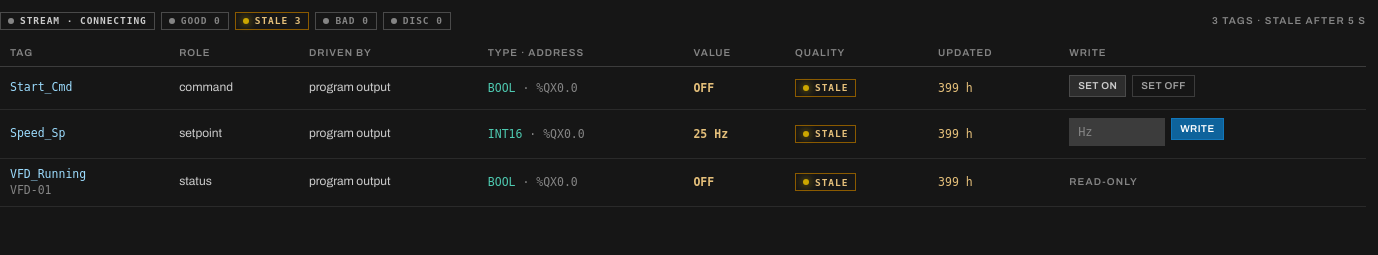
LiveTagTable › writes only command and setpoint tags, and reports what the PLC answered
The image size is (1378, 255).
Expected: the text "read-only" is shown, [1069,176,1138,188]
Click the button "Set ON" at (1098, 86), box [1069,75,1126,97]
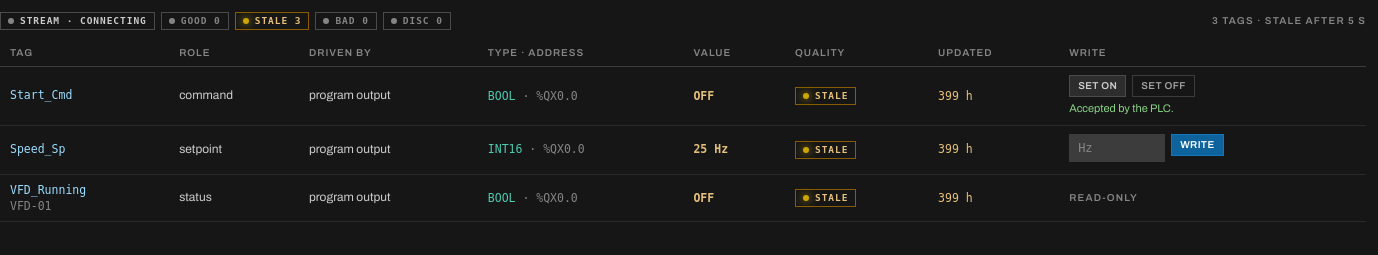
Now the text "Accepted by the PLC." is shown, box [1069,102,1174,114]
Type "37.5" into the field named "New value for Speed_Sp in Hz" at (1117, 148), box [1069,134,1165,162]
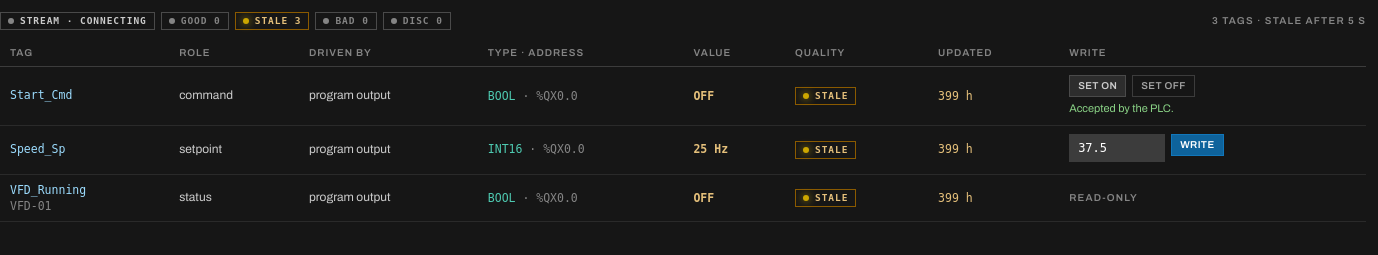
Click the button "Write" at (1197, 145), box [1171,134,1224,156]
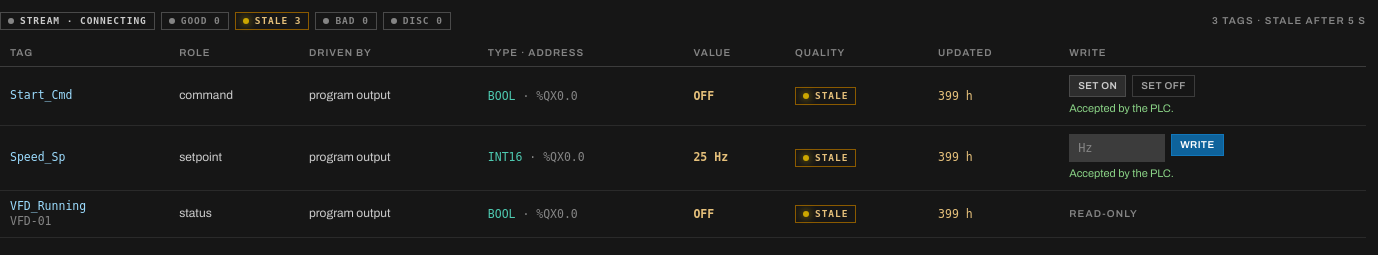
Now the 2nd text "Accepted by the PLC." is shown, box [1069,167,1174,179]
